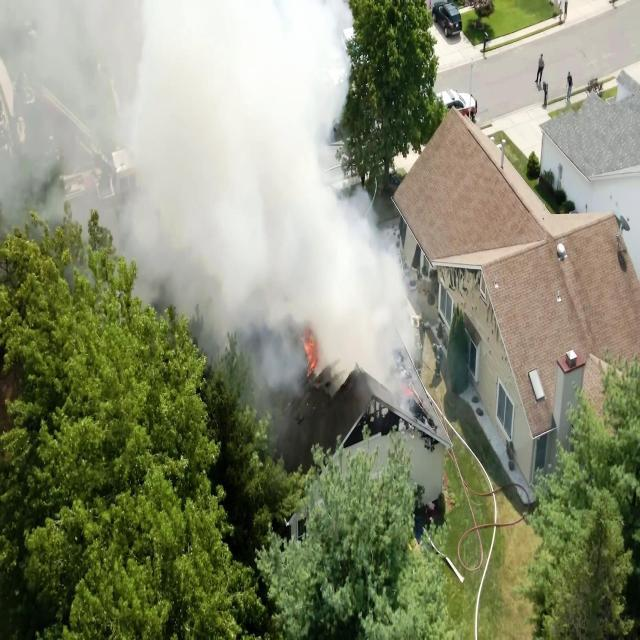Fire: (299, 322, 318, 384)
Smoke: (0, 0, 354, 223), (128, 225, 324, 315), (322, 223, 402, 369), (247, 318, 299, 394)
